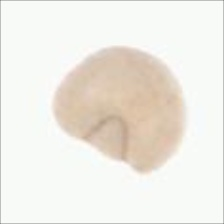L5: (82, 114, 128, 163)
L6: (50, 43, 188, 176)
